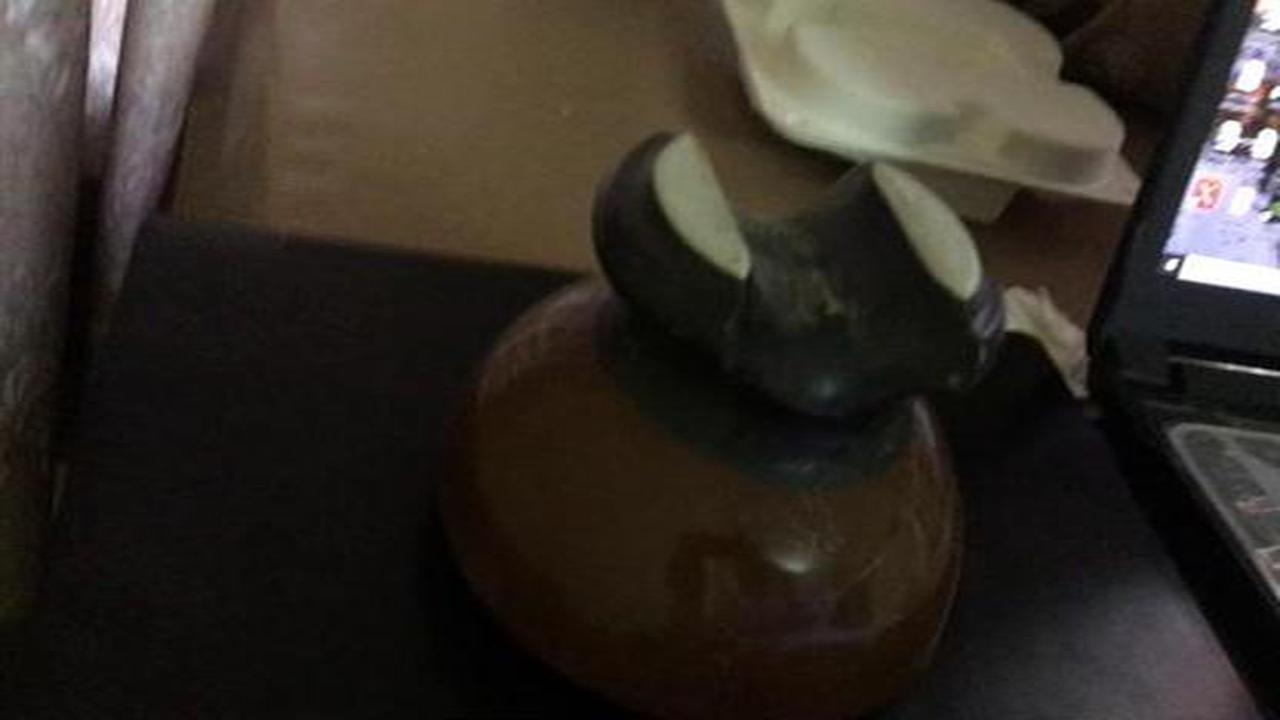insulator_pin: (428, 101, 1031, 701)
